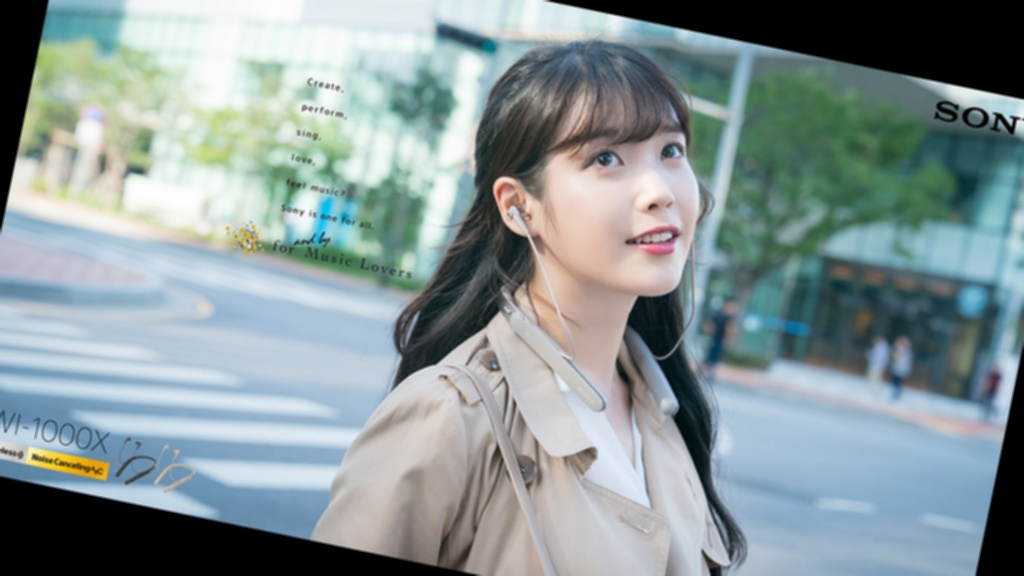earphone: (483, 173, 550, 240)
